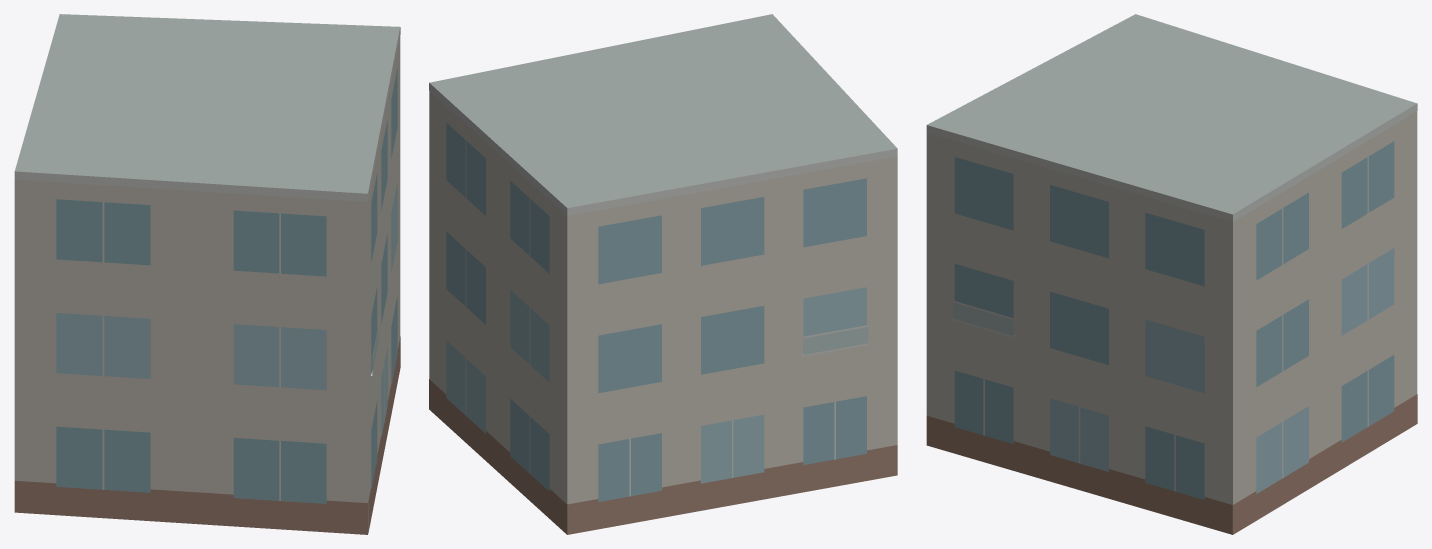
Rendered from survey-upis-32642399.glb.
3 views of the same model, side by side, from view 1: azimuth 30°, elevation 25°; view 2: azimuth 150°, elevation 25°; view 3: azimuth 270°, elevation 25° (orthographic). The views are drawn at different scales.
Visible parts, largest first — view 1: survey-upis-32642399.tmp; view 2: survey-upis-32642399.tmp; view 3: survey-upis-32642399.tmp.
Part boxes in pixels (<box>): survey-upis-32642399.tmp: <box>14,14,400,534</box>; survey-upis-32642399.tmp: <box>429,14,897,534</box>; survey-upis-32642399.tmp: <box>926,14,1417,534</box>.
Size of the model in its own units: 13.7 by 10.2 by 14.17.
